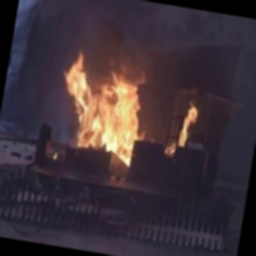fire: (44, 28, 216, 190)
